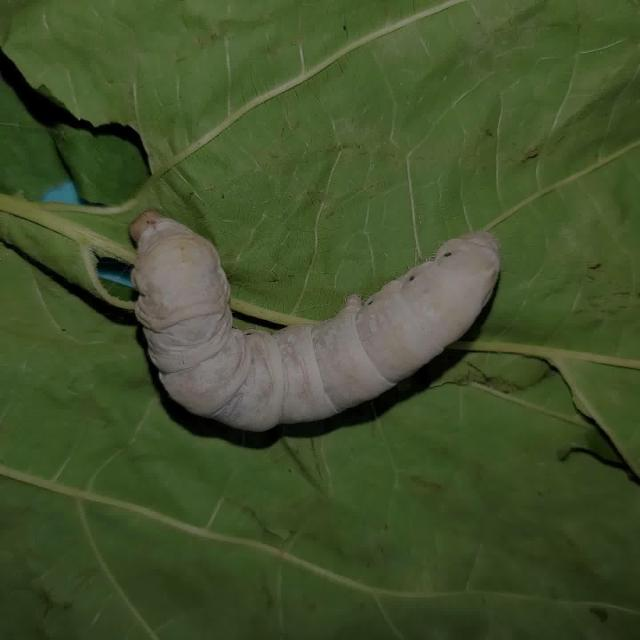Grasserie: (101, 160, 545, 478)
